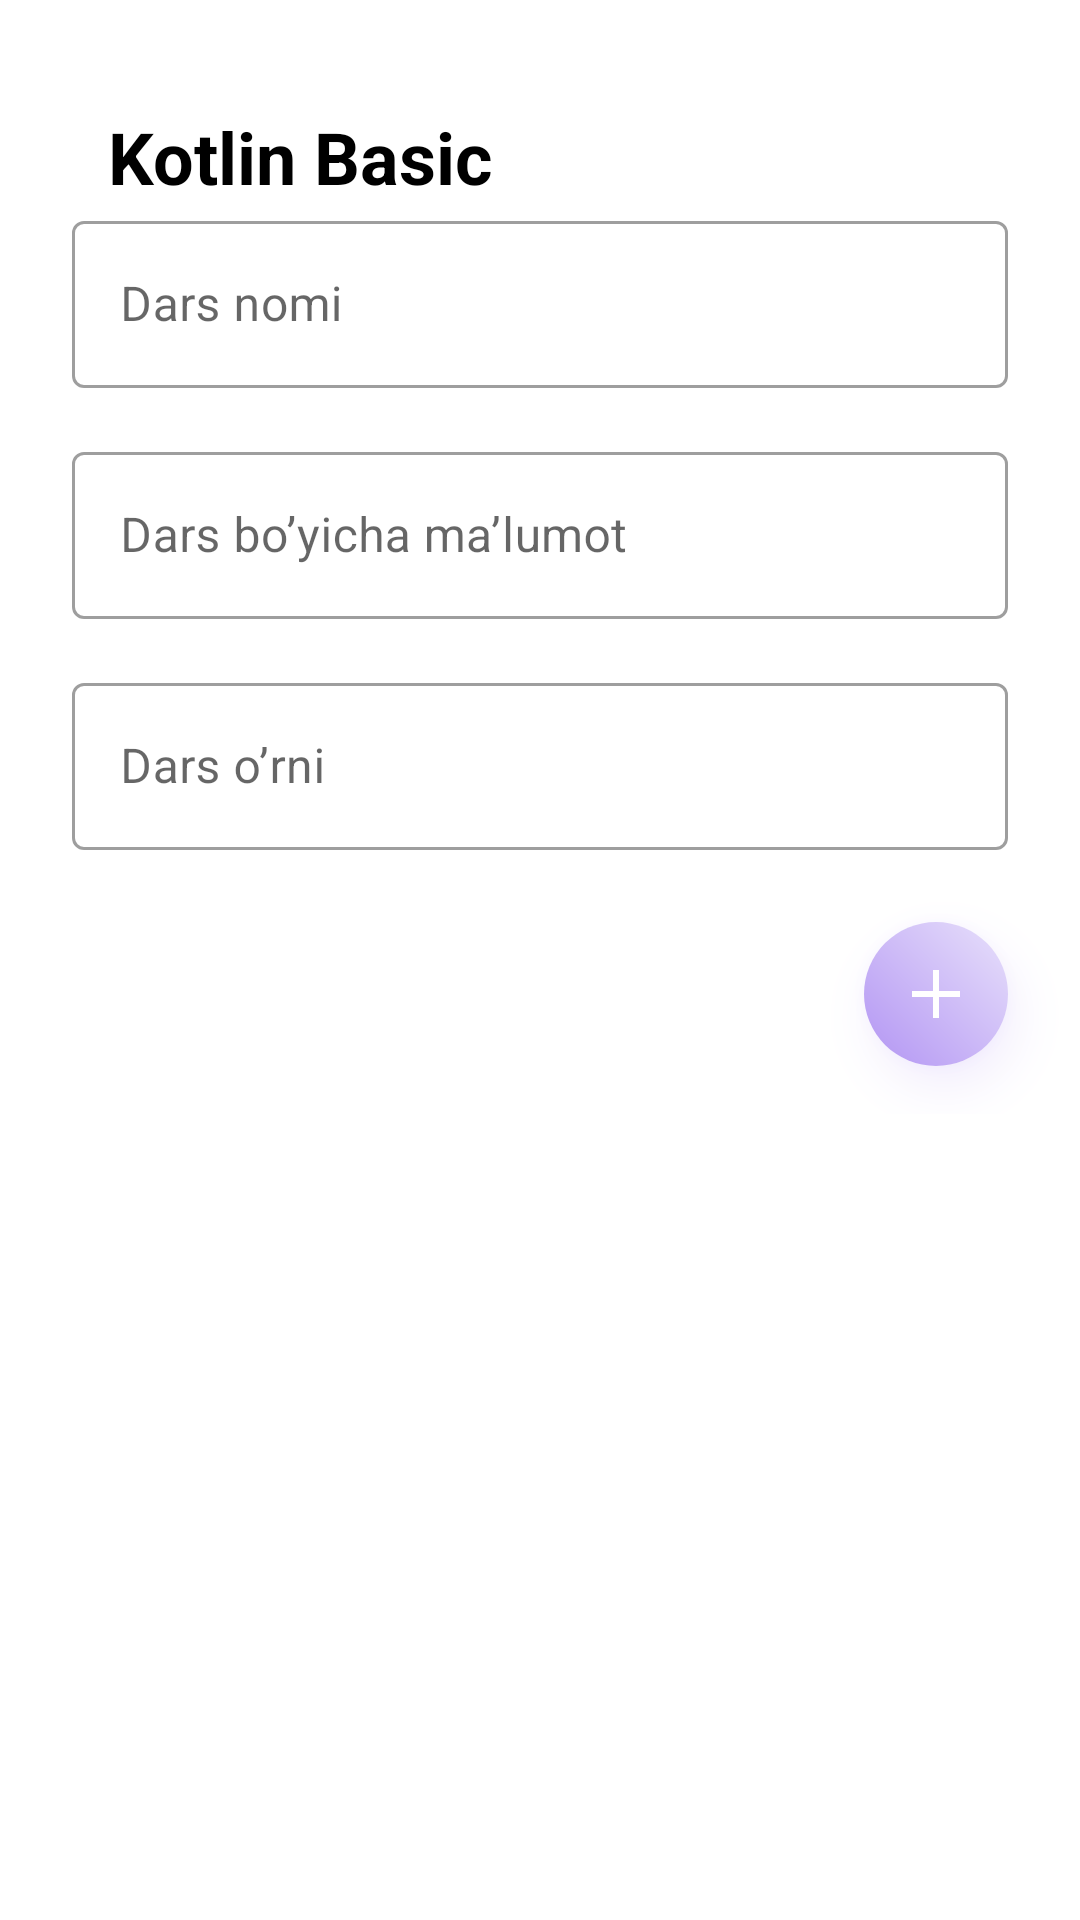

Icon click points for this 1080x1920 phone screenshot, format (x=x, y=y):
plus: (x=936, y=994)
